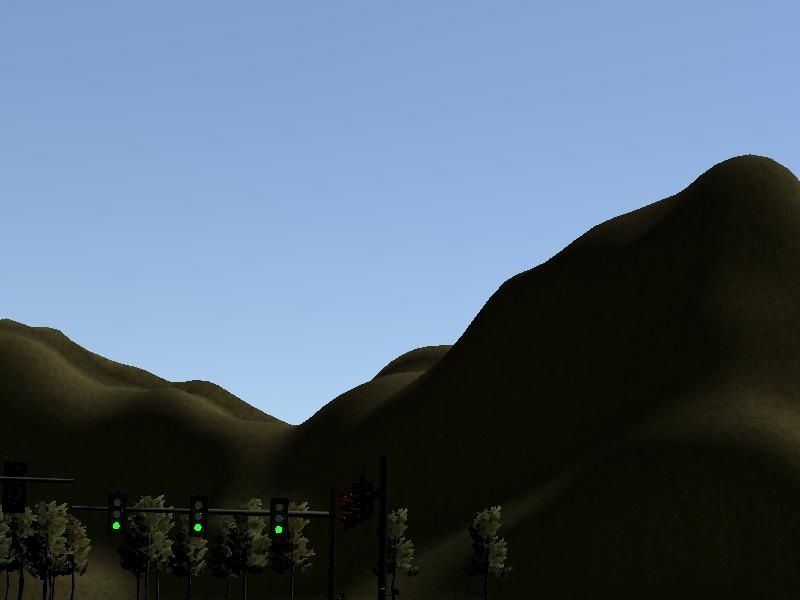GREEN: (105, 492, 127, 535), (188, 496, 209, 538), (270, 497, 290, 537)
